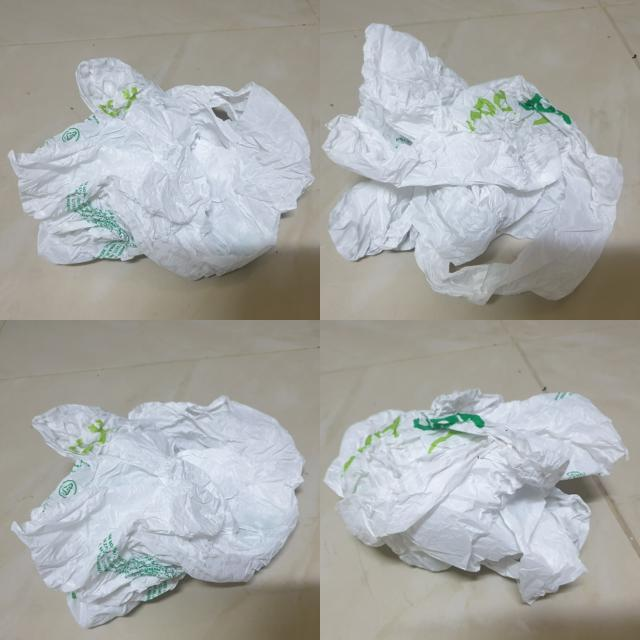Single-layer Plastic: (324, 25, 622, 304), (11, 396, 304, 628), (9, 58, 314, 280), (325, 390, 628, 603)
